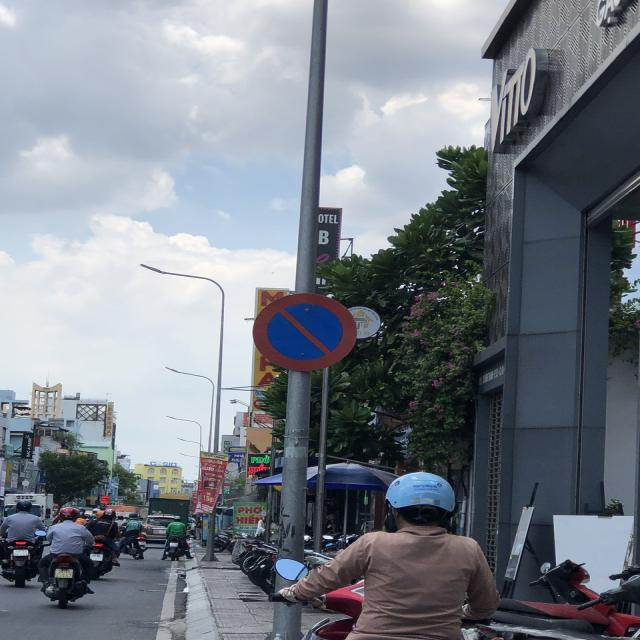Bien bao cam do xe: (252, 289, 363, 373)
